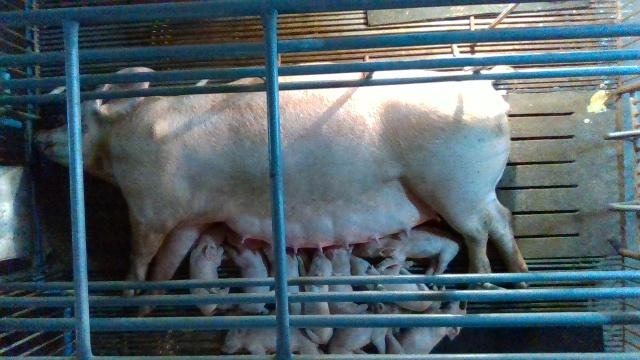piglet: (357, 223, 461, 275), (397, 284, 467, 354), (326, 304, 402, 355), (188, 223, 230, 314), (367, 258, 434, 311), (225, 234, 269, 314), (298, 250, 334, 344), (325, 245, 368, 314), (262, 245, 303, 315), (220, 328, 320, 355)
sow-sleep-lactate: (32, 65, 527, 315)
